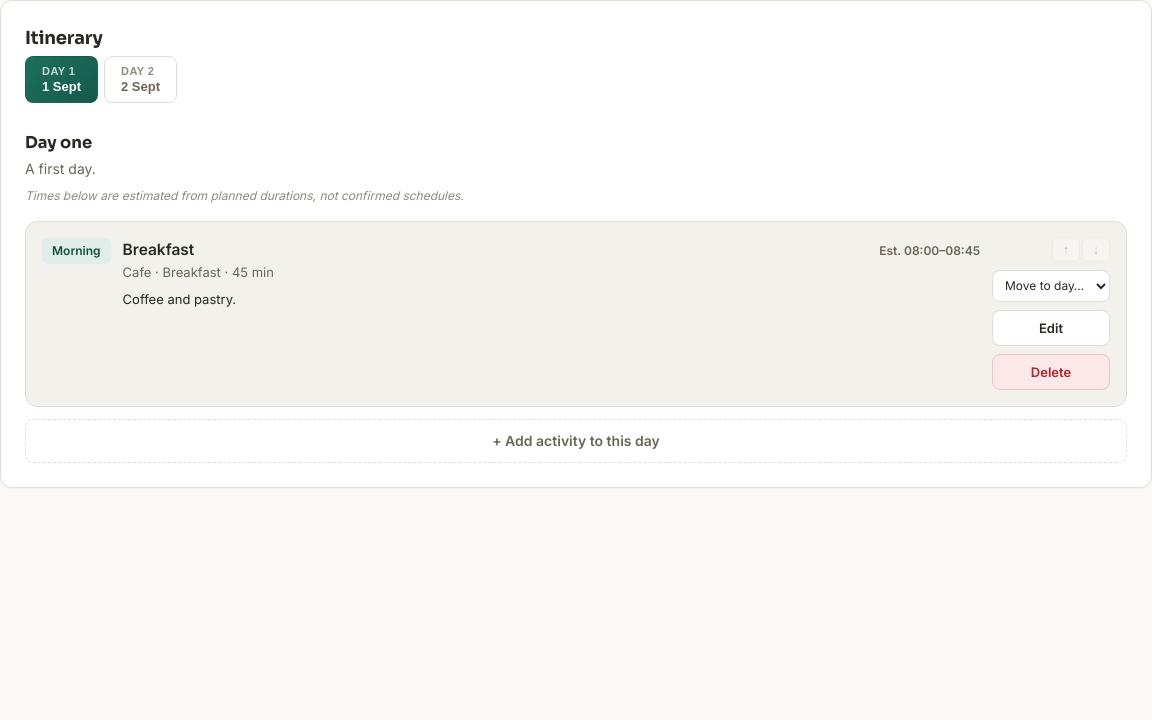
Test: ItineraryView › switches active day and resets any open edit/add state
The image size is (1152, 720).
Click the button "Edit". click: click(1051, 328)
box: [992, 310, 1110, 346]
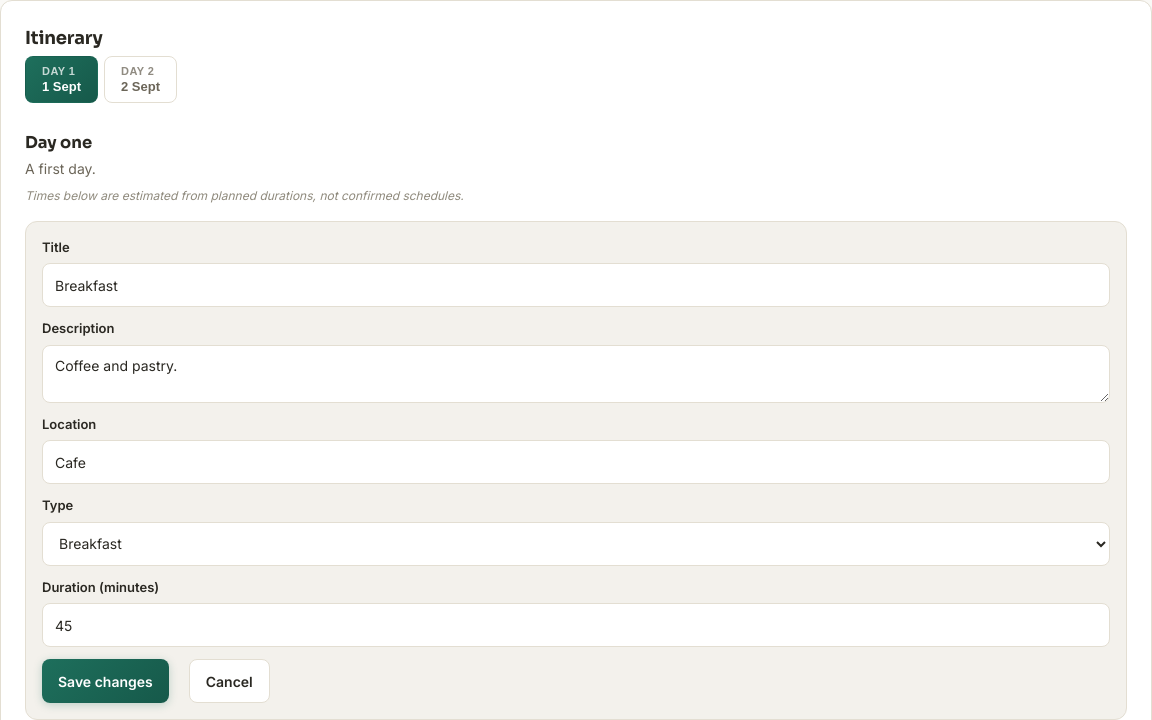
Check: the button "Save changes" is shown, box [42, 659, 169, 703]
Click the tab "Day 2 2 Sept". click: click(140, 80)
box: [104, 56, 177, 103]
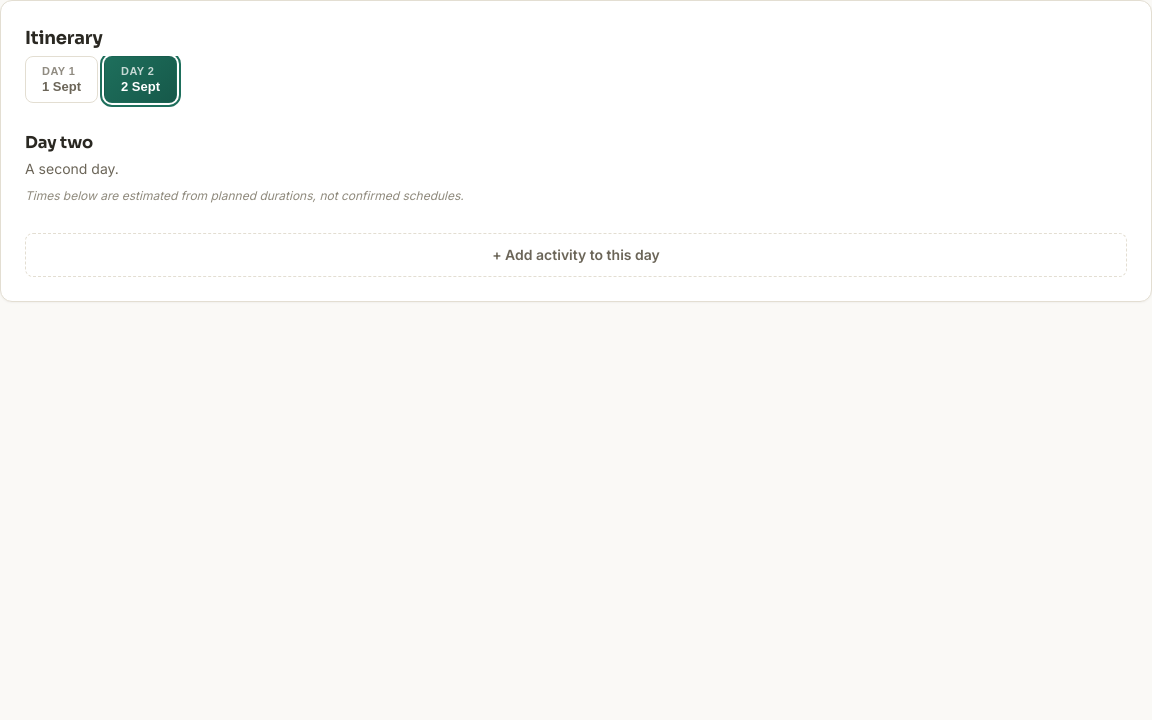
Check: the heading "Day two" is shown, box [25, 132, 93, 153]
Check: the button "Save changes" is gone
